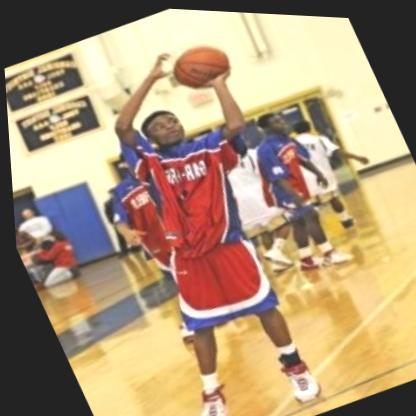basketball: (159, 28, 241, 100)
